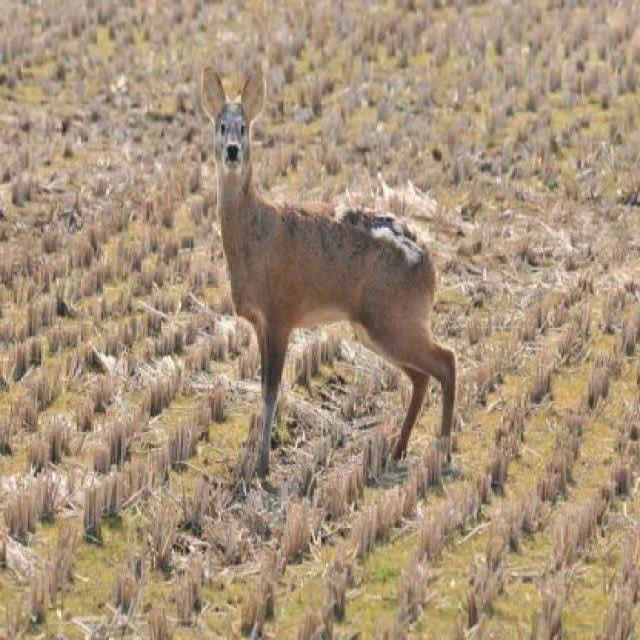deer: (194, 61, 463, 480)
